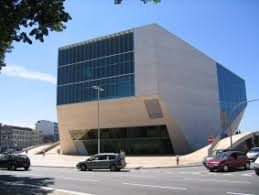musica: (56, 22, 247, 155)
